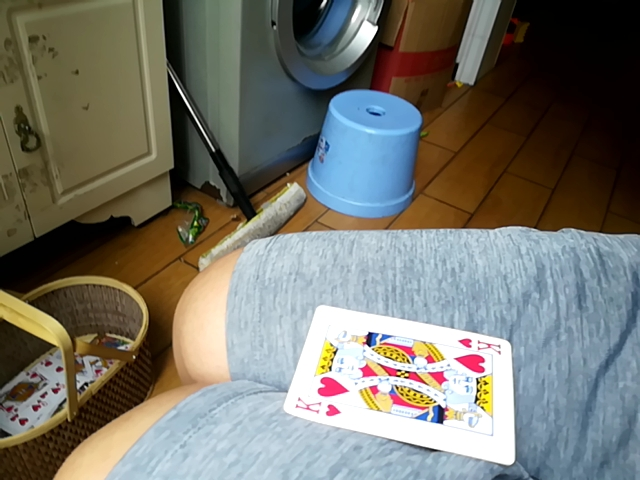hx k: (281, 302, 518, 466)
